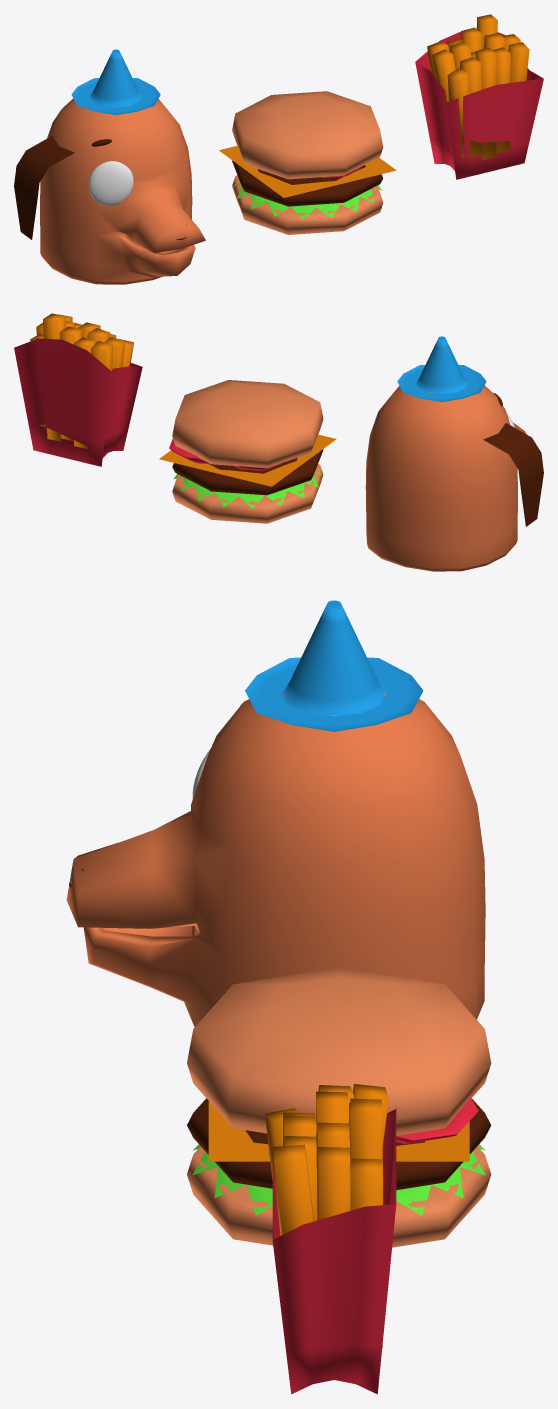
The model's file is first_design.gltf.
3 renders of one model, top to bottom at view 1: azimuth 30°, elevation 25°; view 2: azimuth 150°, elevation 25°; view 3: azimuth 270°, elevation 25°, orthographic. The views are drawn at different scales.
Parts seen in each view (by area): view 1: Cube.007, Cube.001, Cube.006, Cube.017, Cube.002, Circle.001, Cube, Plane.001, Plane, Sphere, Circle; view 2: Cube.007, Cube.006, Cube.001, Cube.002, Circle.001, Cube.017, Cube, Plane.001, Plane, Circle; view 3: Cube.007, Cube.001, Cube.006, Cube.017, Circle.001, Cube.002, Cube, Plane, Circle, Cube.004.
Boxes of the visible parts, x1,y1,x2,y2 form: Cube.007: [40, 98, 205, 284]; Cube.001: [232, 91, 383, 179]; Cube.006: [415, 30, 543, 179]; Cube.017: [427, 14, 529, 159]; Cube.002: [232, 175, 383, 234]; Circle.001: [71, 49, 160, 114]; Cube: [232, 160, 383, 206]; Plane.001: [14, 136, 74, 239]; Plane: [219, 146, 396, 197]; Sphere: [88, 161, 133, 205]; Circle: [233, 179, 381, 219]; Cube.007: [365, 385, 526, 571]; Cube.006: [14, 338, 142, 466]; Cube.001: [172, 380, 323, 467]; Cube.002: [172, 464, 323, 523]; Circle.001: [397, 336, 486, 401]; Cube.017: [30, 313, 133, 449]; Cube: [172, 449, 323, 495]; Plane.001: [483, 423, 543, 526]; Plane: [159, 434, 336, 486]; Circle: [173, 468, 321, 508]; Cube.007: [66, 693, 485, 1026]; Cube.001: [187, 967, 491, 1135]; Cube.006: [272, 1106, 396, 1394]; Cube.017: [265, 1084, 388, 1360]; Circle.001: [245, 600, 423, 731]; Cube.002: [187, 1146, 491, 1247]; Cube: [187, 1098, 491, 1190]; Plane: [208, 1101, 469, 1161]; Circle: [192, 1144, 485, 1215]; Cube.004: [396, 1098, 478, 1143].
Bounding box in the file's own units: 10.28 × 3.95 × 3.76.
